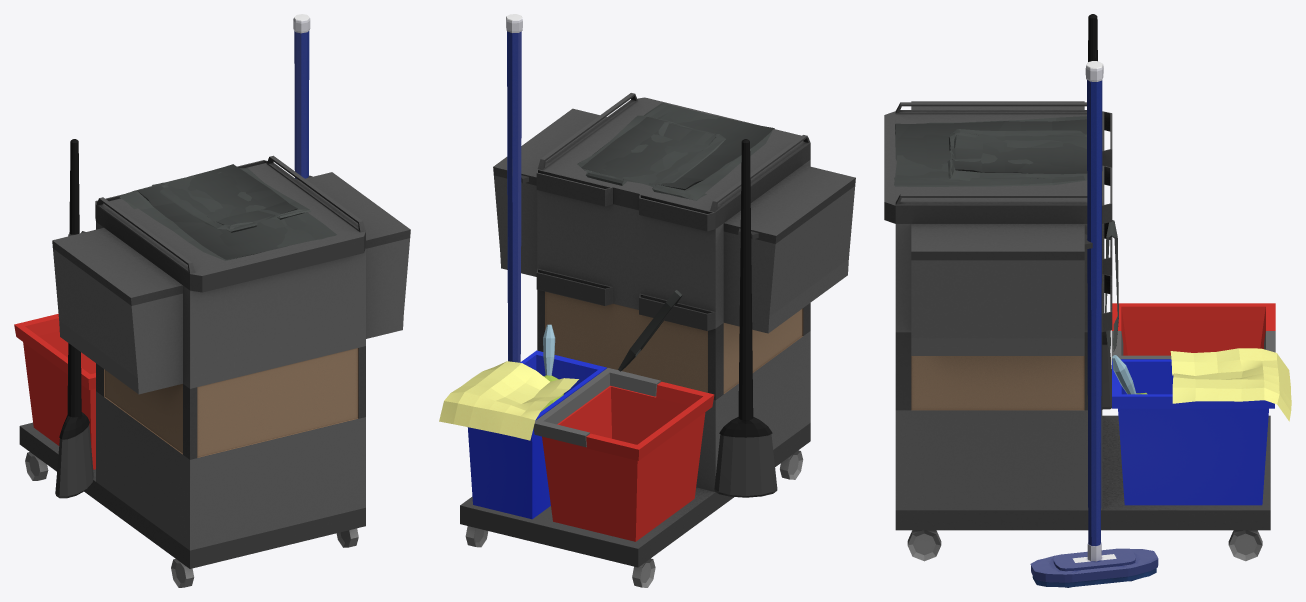
Rendered from mop_cart_2.dae.
3 views of the same model, side by side, from view 1: azimuth 30°, elevation 25°; view 2: azimuth 150°, elevation 25°; view 3: azimuth 270°, elevation 25° (orthographic). The views are drawn at different scales.
Parts seen in each view (by area): view 1: Cart2_Cube.002, Bag_Plane.002, BigRed_Cube.001, Bag.001_Plane.001, Broom_BroomTall.001, Mop_Cube.001; view 2: Cart2_Cube.002, BigRed_Cube.001, Broom_BroomTall.001, Blue_Cube.001, Cloth_Plane.001, Bag.001_Plane.001, Mop_Cube.001, Bag_Plane.002, Tongs_Cube.001, Duster_Cylinder.002; view 3: Cart2_Cube.002, Blue_Cube.001, Mop_Cube.001, BigRed_Cube.001, Bag.001_Plane.001, Bag_Plane.002, Cloth_Plane.001, Broom_BroomTall.001, Tongs_Cube.001, Duster_Cylinder.002.
Part boxes in pixels (x1,y1,x2,y2): Cart2_Cube.002: (19,155,410,587); Bag_Plane.002: (119,168,336,260); BigRed_Cube.001: (14,313,95,469); Bag.001_Plane.001: (152,164,310,232); Broom_BroomTall.001: (55,139,93,498); Mop_Cube.001: (293,14,310,178); Cart2_Cube.002: (460,93,855,587); BigRed_Cube.001: (533,368,714,541); Broom_BroomTall.001: (714,139,777,497); Blue_Cube.001: (467,350,606,519); Cloth_Plane.001: (439,361,578,440); Bag.001_Plane.001: (581,115,725,189); Mop_Cube.001: (506,14,522,362); Bag_Plane.002: (577,103,774,200); Tongs_Cube.001: (618,290,682,371); Duster_Cylinder.002: (541,324,563,411); Cart2_Cube.002: (884,101,1270,561); Blue_Cube.001: (1112,359,1274,505); Mop_Cube.001: (1030,61,1158,587); BigRed_Cube.001: (1111,303,1275,360); Bag.001_Plane.001: (947,129,1087,180); Bag_Plane.002: (894,116,1087,186); Cloth_Plane.001: (1170,348,1291,421); Broom_BroomTall.001: (1088,14,1111,409); Tongs_Cube.001: (1105,220,1118,351); Duster_Cylinder.002: (1112,355,1147,394).
Size of the model in its own units: 0.8214 by 0.9405 by 1.3.
Materials: 8 (8 with a texture image).
